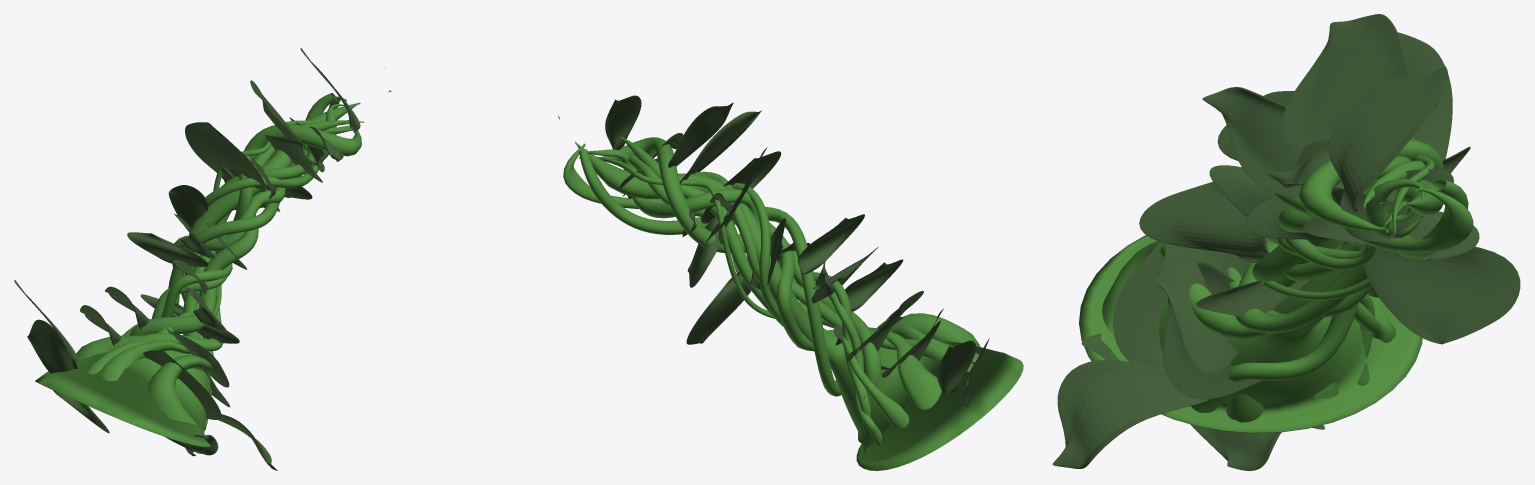
Rendered from BeansalkBridge#08.fbx.
3 views of the same model, side by side, from view 1: azimuth 30°, elevation 25°; view 2: azimuth 150°, elevation 25°; view 3: azimuth 270°, elevation 25° (orthographic). The views are drawn at different scales.
Visible parts, largest first — view 1: Stalk12.031, Stalk12.032, Stalk12.027, Stalk12.026, Stalk12.032|Plane.002|Dupli|2, Stalk12.022, Stalk12.030, Stalk12.031|Plane.002|Dupli|4, Stalk12.028, Stalk12.030|Plane.002|Dupli|4, Stalk12.029, Stalk12.022|Plane.002|Dupli|6 (+14 smaller); view 2: Stalk12.031, Stalk12.030, Stalk12.022, Stalk12.032, Stalk12.027, Stalk12.026, Stalk12.023, Stalk12.029, Stalk12.022|Plane.002|Dupli|5, Stalk12.028, Stalk12.032|Plane.002|Dupli|5, Stalk12.030|Plane.002|Dupli|7 (+11 smaller); view 3: Stalk12.031, Stalk12.022|Plane.002|Dupli|5, Stalk12.032|Plane.002|Dupli|5, Stalk12.030|Plane.002|Dupli|3, Stalk12.032|Plane.002|Dupli|3, Stalk12.032|Plane.002|Dupli|1, Stalk12.032|Plane.002|Dupli|6, Stalk12.022|Plane.002|Dupli|7, Stalk12.032, Stalk12.030|Plane.002|Dupli|2, Stalk12.030, Stalk12.027 (+17 smaller).
Boxes of the visible parts, left/top/right/bottom form: Stalk12.031: left=35, top=90, right=391, bottom=447; Stalk12.032: left=129, top=67, right=385, bottom=335; Stalk12.027: left=148, top=127, right=351, bottom=426; Stalk12.026: left=100, top=96, right=346, bottom=381; Stalk12.032|Plane.002|Dupli|2: left=185, top=122, right=265, bottom=190; Stalk12.022: left=76, top=120, right=349, bottom=360; Stalk12.030: left=168, top=93, right=336, bottom=429; Stalk12.031|Plane.002|Dupli|4: left=27, top=319, right=77, bottom=373; Stalk12.028: left=86, top=125, right=351, bottom=374; Stalk12.030|Plane.002|Dupli|4: left=127, top=232, right=208, bottom=266; Stalk12.029: left=183, top=104, right=344, bottom=337; Stalk12.022|Plane.002|Dupli|6: left=168, top=185, right=207, bottom=232; Stalk12.031: left=558, top=116, right=1023, bottom=470; Stalk12.030: left=579, top=149, right=841, bottom=396; Stalk12.022: left=620, top=136, right=941, bottom=409; Stalk12.032: left=602, top=137, right=881, bottom=442; Stalk12.027: left=625, top=152, right=980, bottom=350; Stalk12.026: left=563, top=143, right=983, bottom=362; Stalk12.023: left=578, top=156, right=909, bottom=428; Stalk12.029: left=588, top=149, right=841, bottom=327; Stalk12.022|Plane.002|Dupli|5: left=686, top=271, right=750, bottom=344; Stalk12.028: left=694, top=171, right=973, bottom=371; Stalk12.032|Plane.002|Dupli|5: left=668, top=102, right=733, bottom=167; Stalk12.030|Plane.002|Dupli|7: left=797, top=214, right=864, bottom=274; Stalk12.031: left=1079, top=180, right=1443, bottom=433; Stalk12.022|Plane.002|Dupli|5: left=1358, top=245, right=1520, bottom=344; Stalk12.032|Plane.002|Dupli|5: left=1282, top=14, right=1410, bottom=150; Stalk12.030|Plane.002|Dupli|3: left=1052, top=360, right=1209, bottom=468; Stalk12.032|Plane.002|Dupli|3: left=1328, top=66, right=1448, bottom=214; Stalk12.032|Plane.002|Dupli|1: left=1139, top=182, right=1268, bottom=262; Stalk12.032|Plane.002|Dupli|6: left=1202, top=87, right=1301, bottom=197; Stalk12.022|Plane.002|Dupli|7: left=1156, top=243, right=1269, bottom=374; Stalk12.032: left=1252, top=139, right=1443, bottom=398; Stalk12.030|Plane.002|Dupli|2: left=1113, top=241, right=1167, bottom=368; Stalk12.030: left=1191, top=179, right=1468, bottom=412; Stalk12.027: left=1102, top=160, right=1425, bottom=339.
Bounding box in the file's own units: 206 × 156 × 114.
